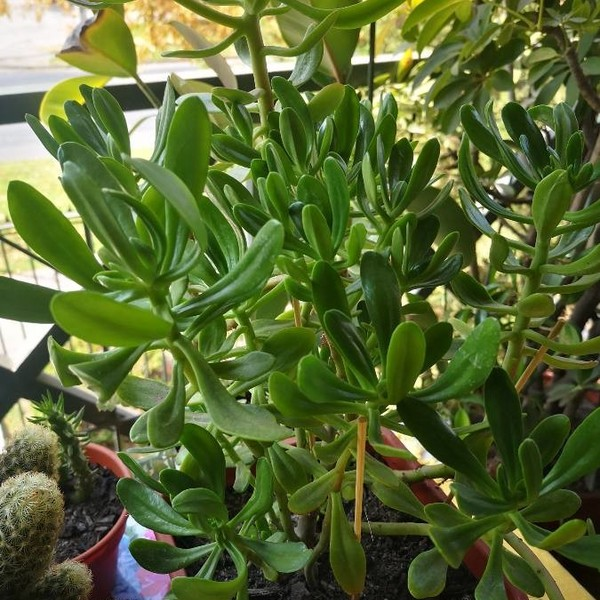obstacle: (70, 83, 507, 588)
